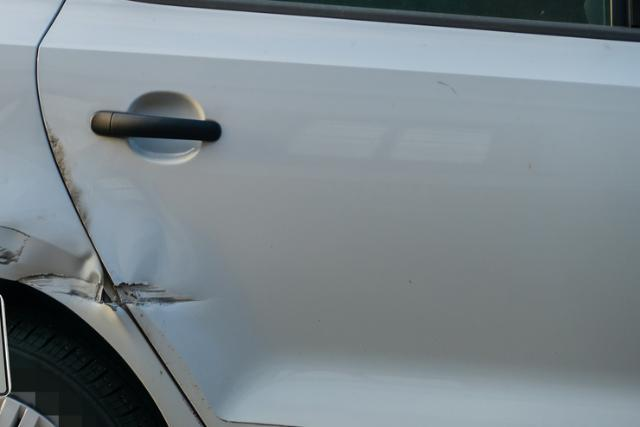Door: (109, 131, 239, 310)
Fender: (0, 155, 114, 330)
